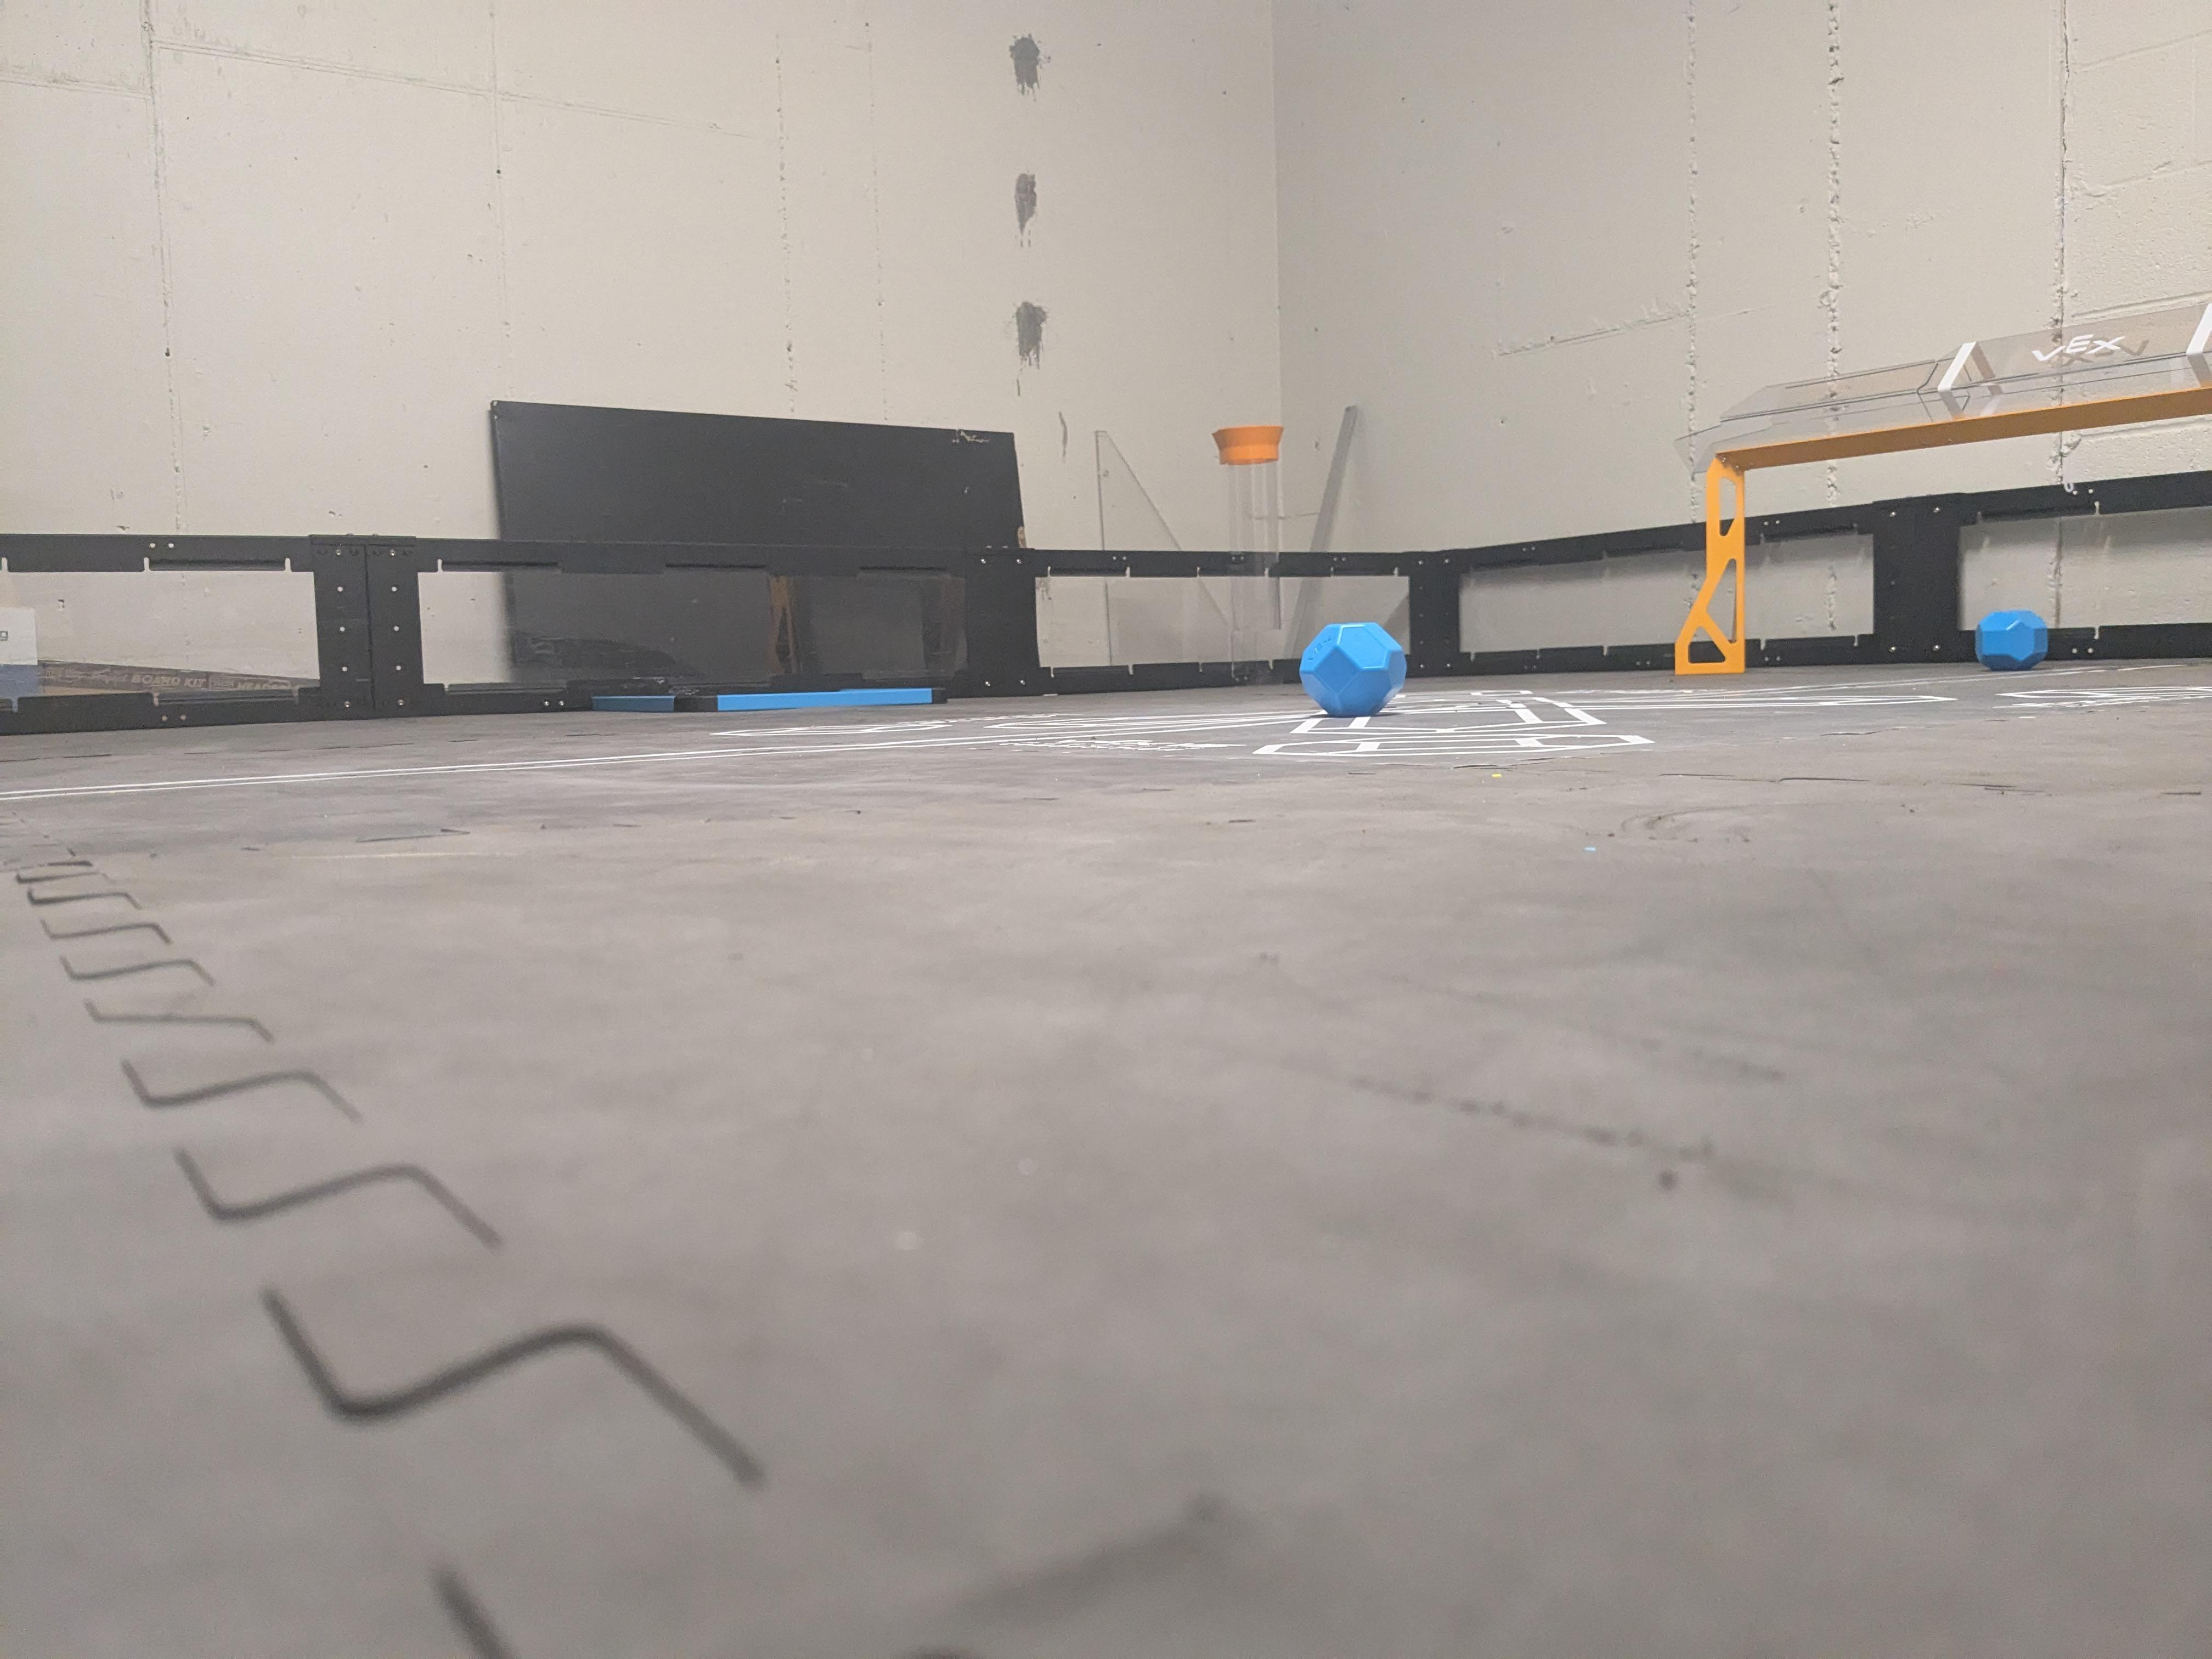Vex-Pieces-BLUE: (1299, 624, 1406, 713), (1970, 612, 2045, 669)
